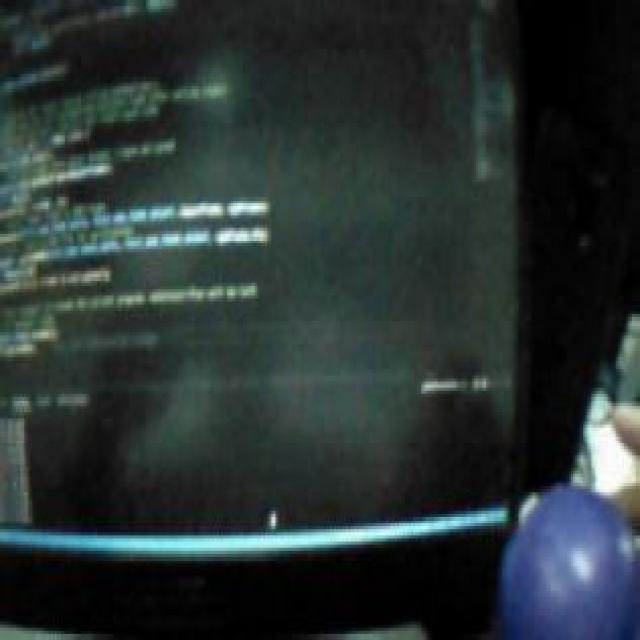BallPurple: (490, 486, 640, 640)
